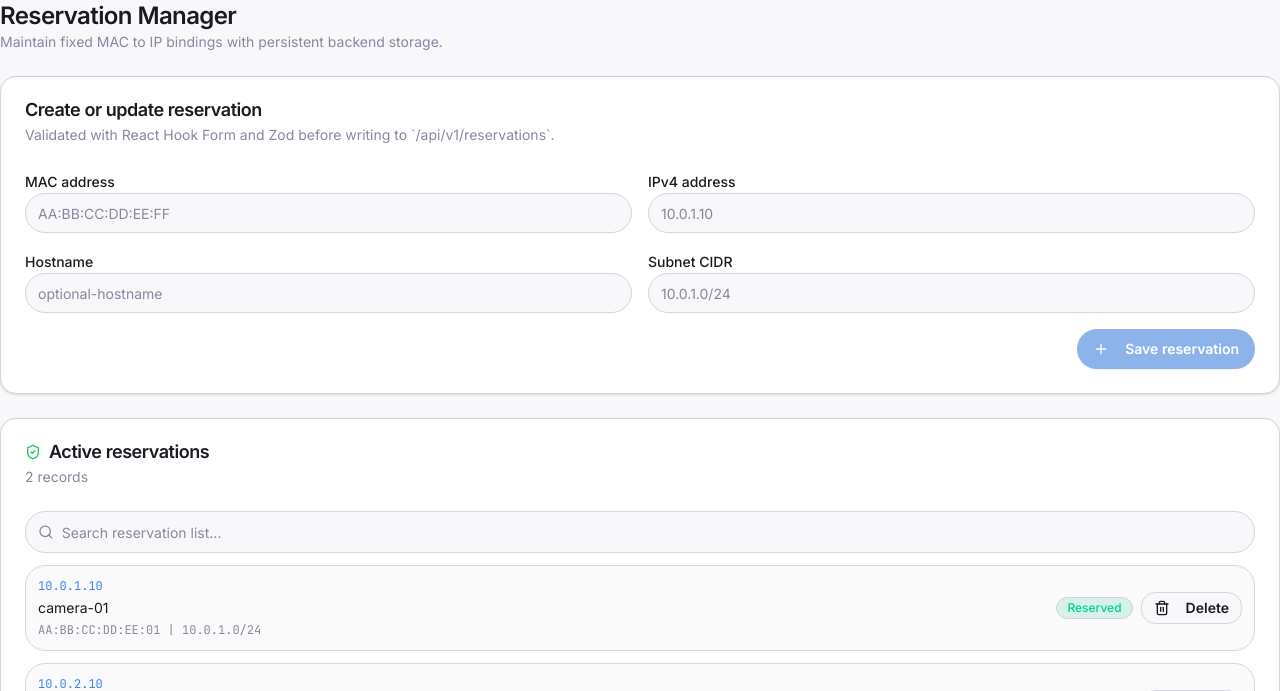
Test case: ReservationsPage › filters the visible reservation list by the active search query
The width and height of the screenshot is (1280, 691).
Type "camera" into the field with placeholder "Search reservation list..." at (652, 532), box [62,512,1242,552]
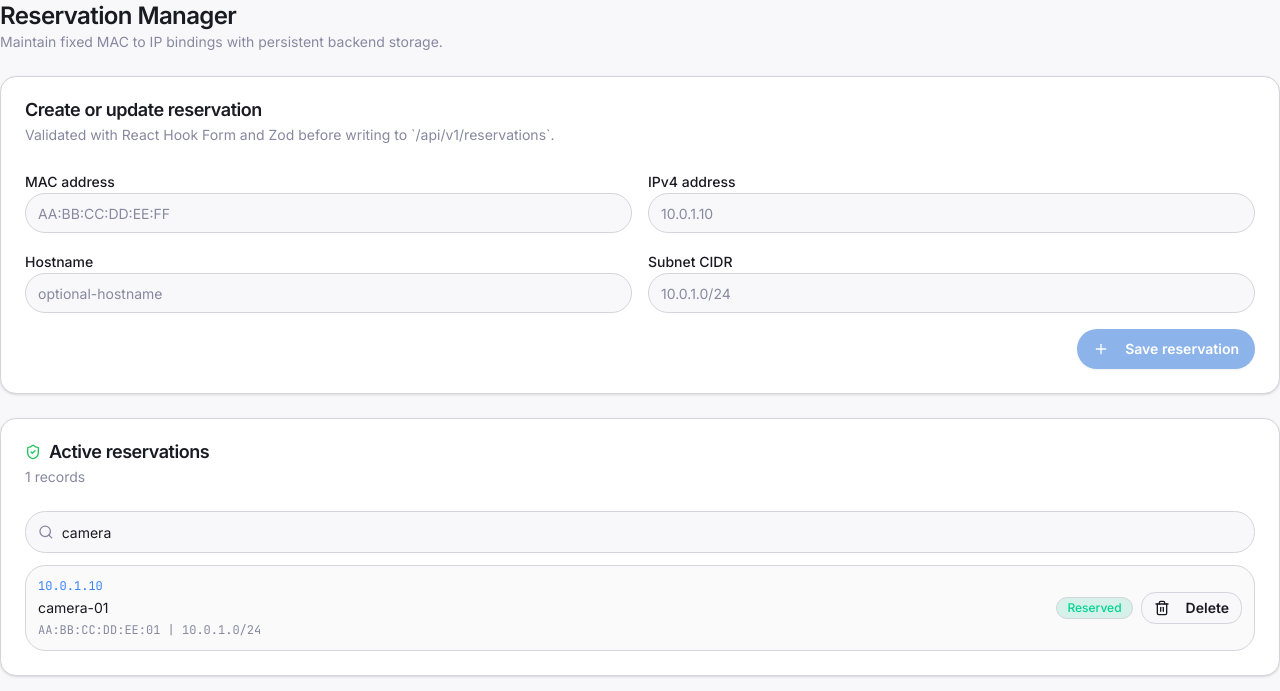
Check: the text "camera-01" is shown, box [38,599,108,616]
Check: the text "1 records" is shown, box [25,468,85,485]
